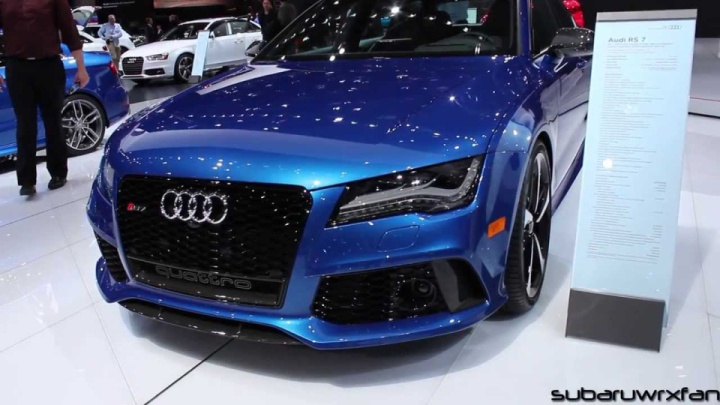audi: (153, 184, 237, 233)
